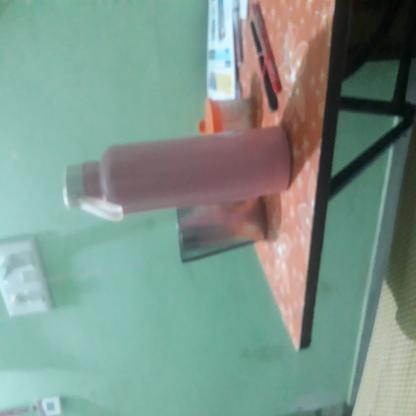bottle: (147, 84, 222, 394)
